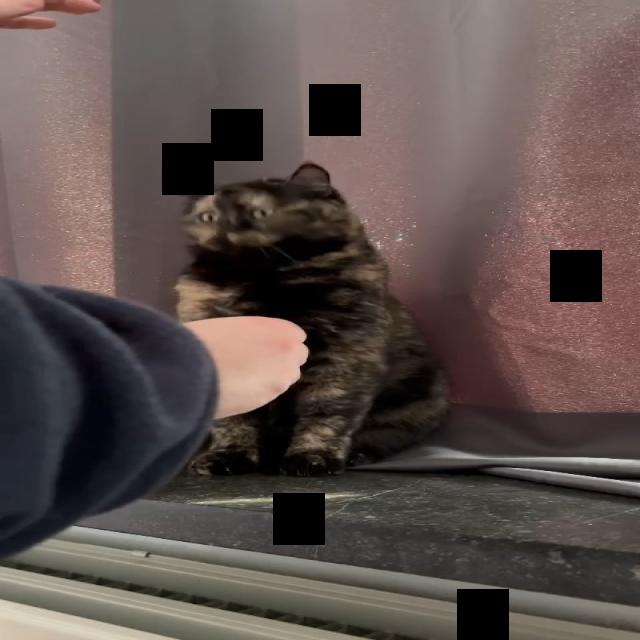authorized: (162, 161, 450, 477)
